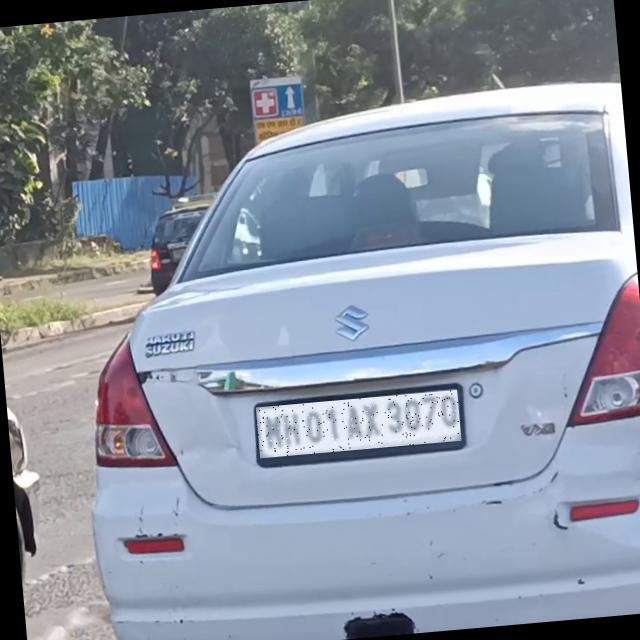Plate: (256, 391, 462, 459)
